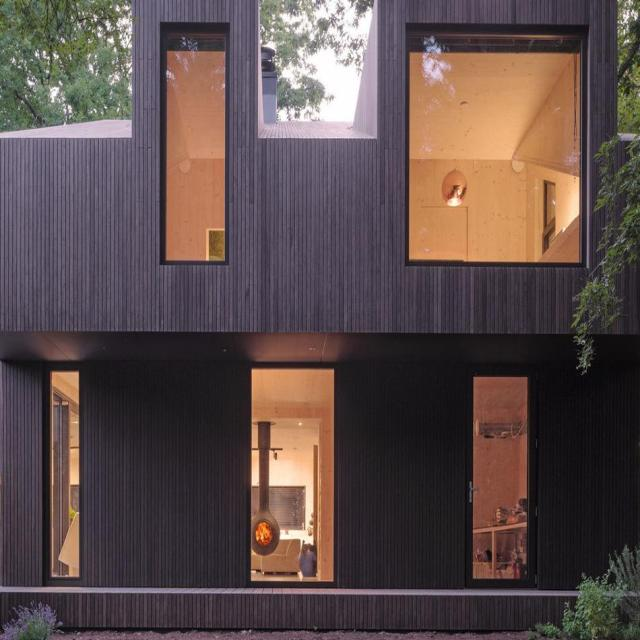door: (460, 366, 538, 594)
plant: (0, 0, 136, 133), (574, 128, 639, 378), (263, 0, 369, 124), (532, 549, 639, 639)
wall: (0, 0, 639, 633)
windows: (407, 37, 584, 263), (247, 360, 338, 588), (163, 28, 227, 260), (42, 363, 82, 587)
